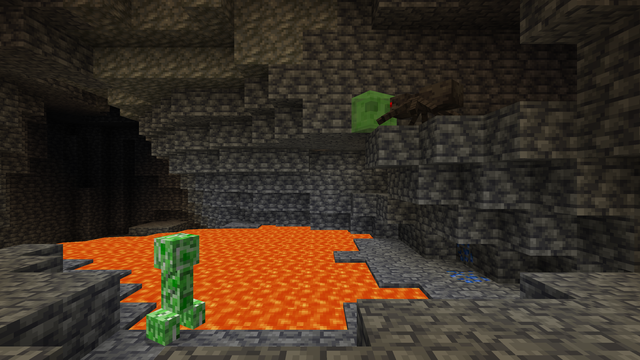araignees: (387, 78, 461, 124)
creepers: (148, 229, 201, 340)
slimes: (351, 90, 384, 134)
